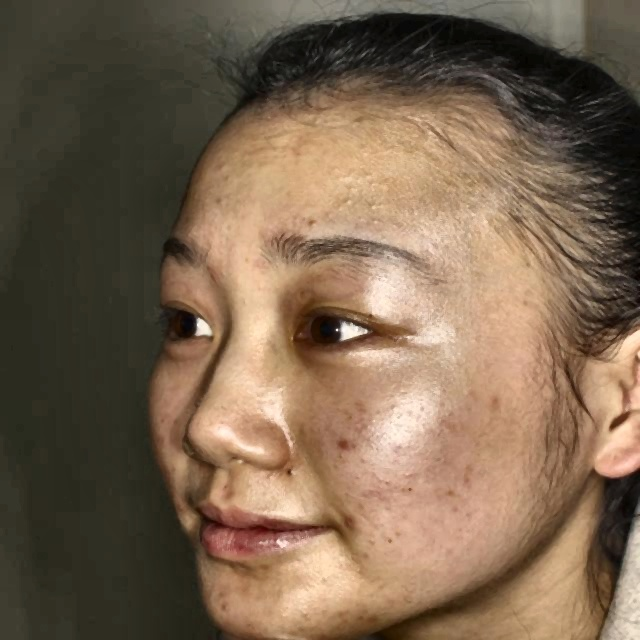comedone: (338, 509, 368, 542), (328, 431, 352, 454)
